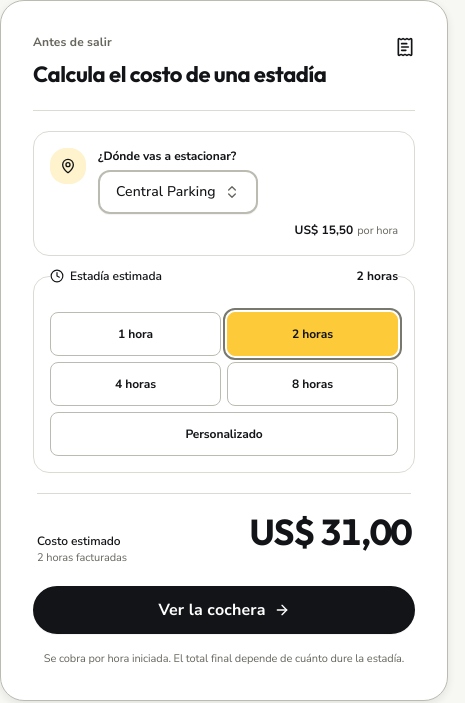
ParkingCalculatorWidget › supports custom minutes and keeps the started-hour estimate advisory
The width and height of the screenshot is (465, 703).
Expected: the dropdown named "¿Dónde vas a estacionar?" is shown, x1=98 y1=170 x2=258 y2=214
Expected: the text "US$ 31,00" is shown, x1=249 y1=510 x2=411 y2=554
Press Arrowright
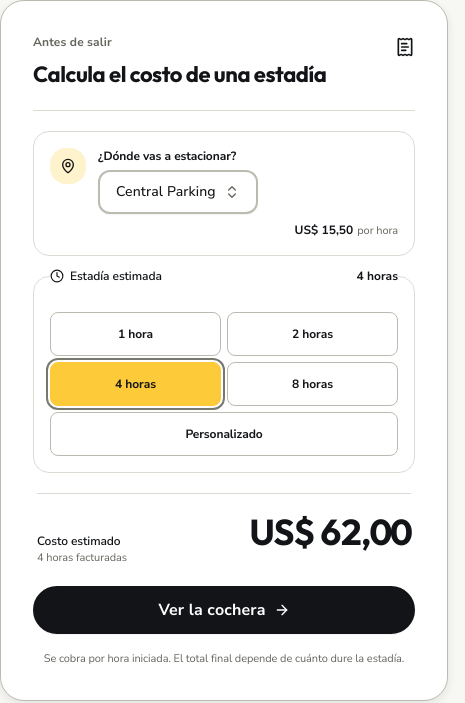
Now the radio button labelled "4 horas" is checked, box x1=50 y1=362 x2=221 y2=406
Press Arrowright Arrowright
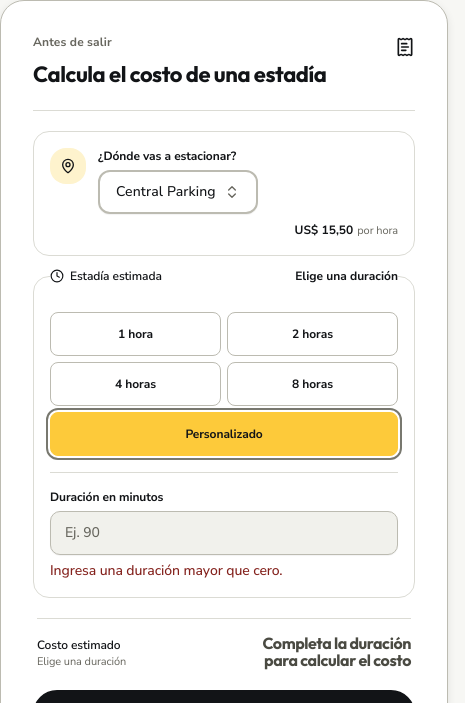
Now the number field labelled "Duración en minutos" is shown, box x1=50 y1=511 x2=398 y2=555
Now the text "Elige una duración" next to "Estadía estimada" is shown, box x1=295 y1=268 x2=398 y2=284
Press Arrowleft Arrowleft
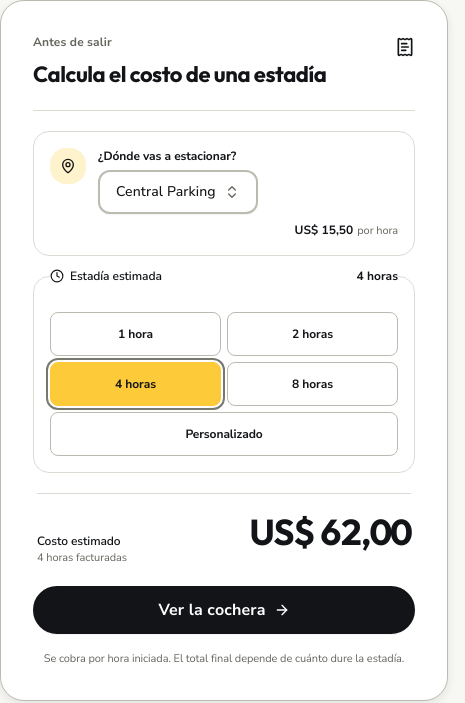
Now the label labelled "Duración en minutos" is gone
Now the text "4 horas" is shown, box x1=357 y1=268 x2=398 y2=284
Click the radio button labelled "Personalizado" at (224, 434), box x1=50 y1=412 x2=398 y2=456
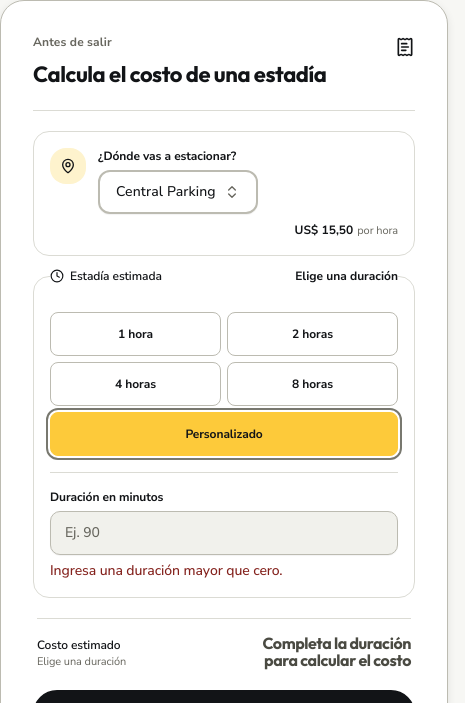
Now the text "Completa la duración para calcular el costo" is shown, box x1=251 y1=635 x2=411 y2=669
Type "61" into the number field labelled "Duración en minutos" at (224, 533), box x1=50 y1=511 x2=398 y2=555
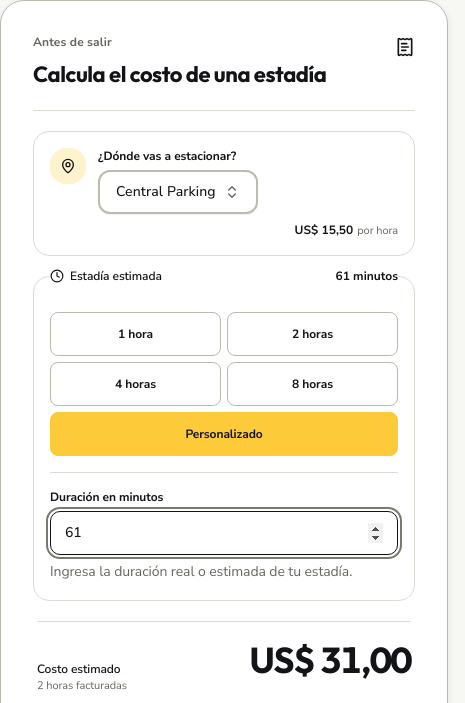
Now the text "US$ 31,00" is shown, box x1=249 y1=638 x2=411 y2=681
Now the text "2 horas facturadas" is shown, box x1=37 y1=678 x2=127 y2=693
Replace the text in the number field labelled "Duración en minutos" with "0" at (224, 533), box x1=50 y1=511 x2=398 y2=555
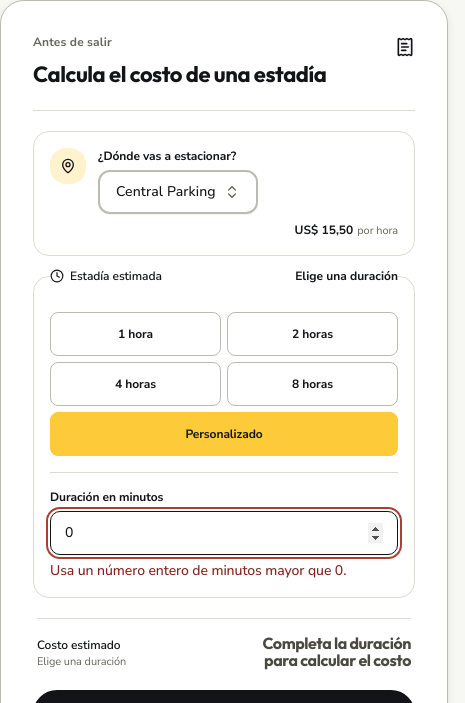
Now the text "Completa la duración para calcular el costo" is shown, box x1=251 y1=635 x2=411 y2=669
Now the text "Usa un número entero de minutos mayor que 0." is shown, box x1=50 y1=561 x2=398 y2=581
